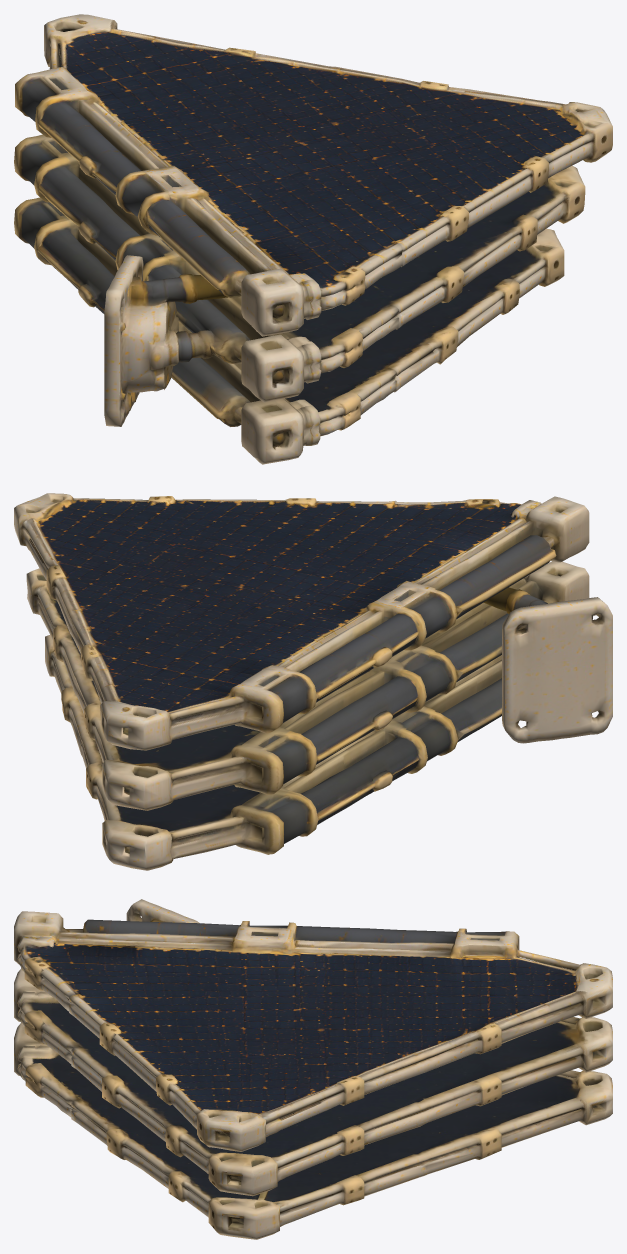
The model's file is SM_Probe_SolarPanel.fbx.
3 views of the same model, one above another, from view 1: azimuth 30°, elevation 25°; view 2: azimuth 150°, elevation 25°; view 3: azimuth 270°, elevation 25° (orthographic). The views are drawn at different scales.
Visible parts, largest first — view 1: SM_Probe_SolarPanel; view 2: SM_Probe_SolarPanel; view 3: SM_Probe_SolarPanel.
Part boxes in pixels (bbox=[...]): SM_Probe_SolarPanel: bbox=[14, 14, 612, 464]; SM_Probe_SolarPanel: bbox=[14, 493, 612, 870]; SM_Probe_SolarPanel: bbox=[14, 899, 612, 1239].
Bounding box in the file's own units: 0.6903 × 0.2153 × 0.7334.
Materials: 1 (1 with a texture image).
